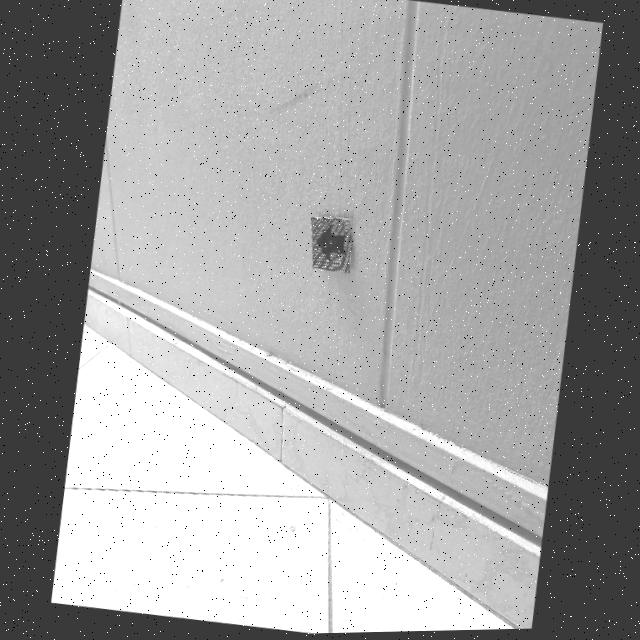LEFT: (316, 226, 344, 265)
